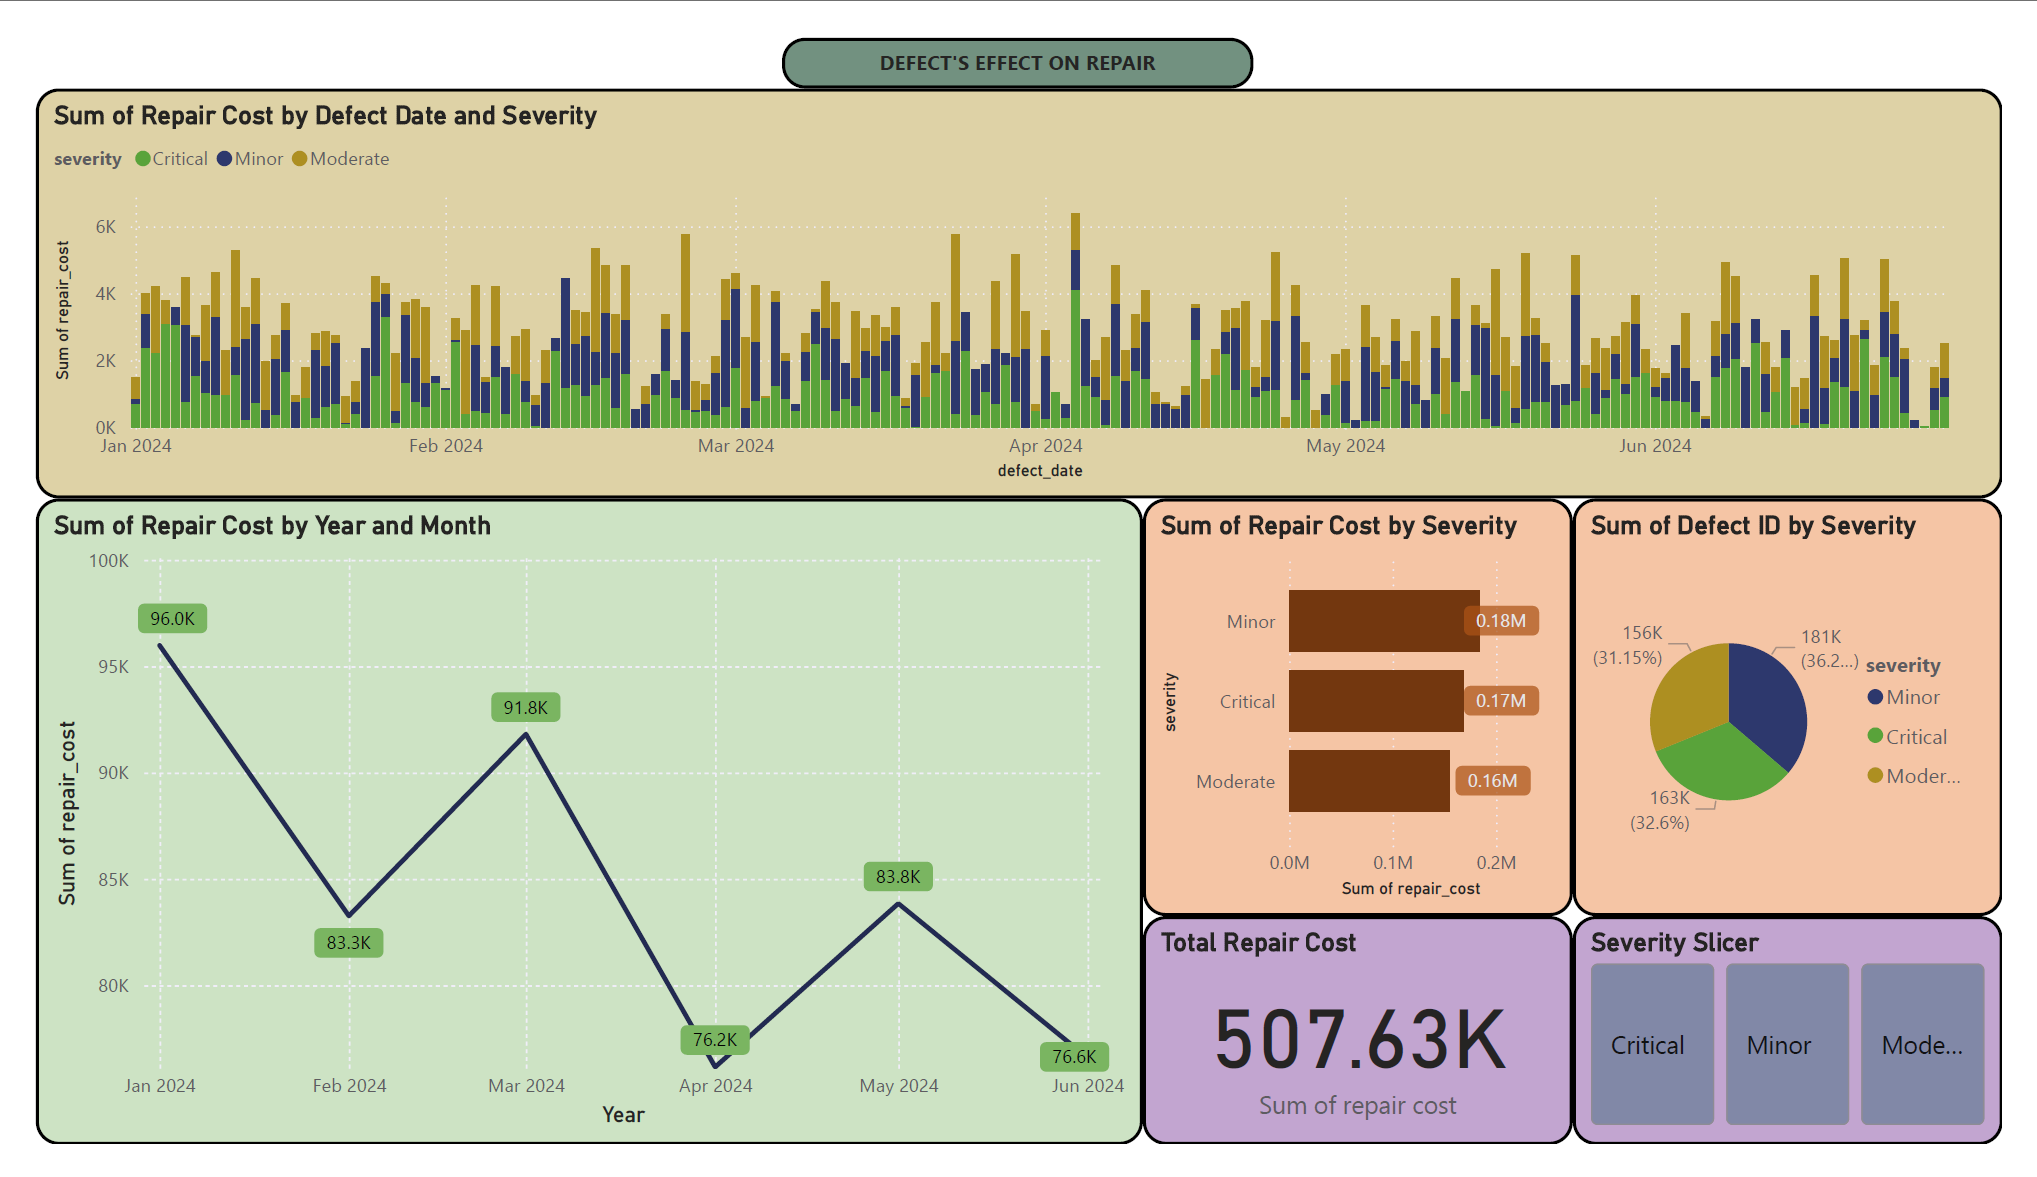

What the dashboard file says about the page in this screenshot:
{"tool":"powerbi","page":{"name":"Page 1","canvas":[1280,720],"ordinal":0},"visuals":[{"type":"card","title":"Total Repair Cost","fields":{"Values":["Sum(defects.repair_cost)"]},"box":[720.5,571.9,280.1,148.6],"z":0},{"type":"pieChart","title":"Sum of Defect ID by Severity","fields":{"Category":["defects.severity"],"Y":["Sum(defects.defect_id)"]},"box":[1000.6,299.8,280.1,272.2],"z":1000},{"type":"lineChart","title":"Sum of Repair Cost by Year and Month","fields":{"Y":["Sum(defects.repair_cost)"],"Category":["defects.defect_date.Variation.Date Hierarchy.Year","defects.defect_date.Variation.Date Hierarchy.Month"]},"box":[0,299.8,720.5,420.7],"z":2000},{"type":"advancedSlicerVisual","title":"Severity Slicer","fields":{"Values":["defects.severity"]},"box":[1000.6,571.9,280.1,148.6],"z":3000},{"type":"columnChart","title":"Sum of Repair Cost by Defect Date and Severity","fields":{"Y":["Sum(defects.repair_cost)"],"Category":["defects.defect_date"],"Series":["defects.severity"]},"box":[0,32.9,1280.6,266.9],"z":4000},{"type":"textbox","box":[486.5,0,306.3,32.9],"z":5000},{"type":"barChart","title":"Sum of Repair Cost by Severity","fields":{"Y":["Sum(defects.repair_cost)"],"Category":["defects.severity"]},"box":[720.5,299.8,280.1,272.2],"z":6000}]}

Visuals, with their boxes in screenshot pixels (x1, y1, x2, y2), scaled from the page's 1280x720 canvas onto the 2037x1177 screenshot:
"Total Repair Cost" card: 1147:935:1592:1176
"Sum of Defect ID by Severity" pieChart: 1592:490:2036:935
"Sum of Repair Cost by Year and Month" lineChart: 0:490:1147:1176
"Severity Slicer" advancedSlicerVisual: 1592:935:2036:1176
"Sum of Repair Cost by Defect Date and Severity" columnChart: 0:54:2036:490
textbox: 774:0:1262:54
"Sum of Repair Cost by Severity" barChart: 1147:490:1592:935
